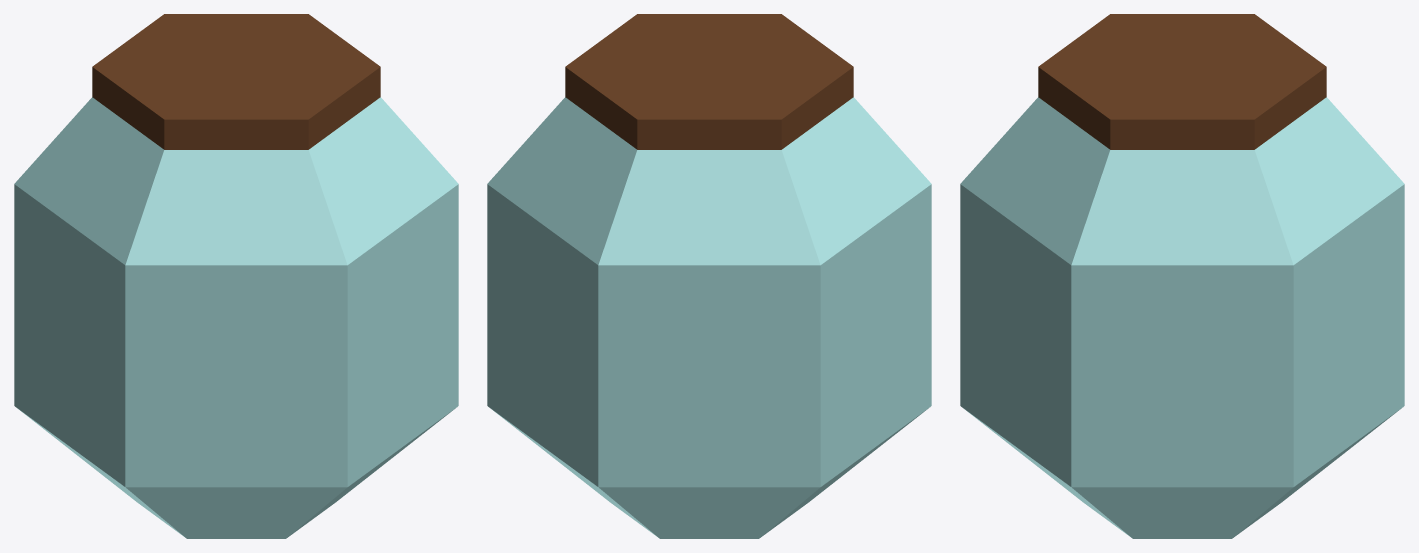
Rendered from Cookie_jar.fbx.
3 renders of one model, left to right at view 1: azimuth 30°, elevation 25°; view 2: azimuth 150°, elevation 25°; view 3: azimuth 270°, elevation 25°, orthographic.
Parts seen in each view (by area): view 1: Cookie jar; view 2: Cookie jar; view 3: Cookie jar.
Boxes of the visible parts, box(x1,y1,x2,y2) form: Cookie jar: box(14, 14, 458, 538); Cookie jar: box(487, 14, 931, 538); Cookie jar: box(960, 14, 1404, 538).
Size of the model in its own units: 52.41 by 65.5 by 60.52.
